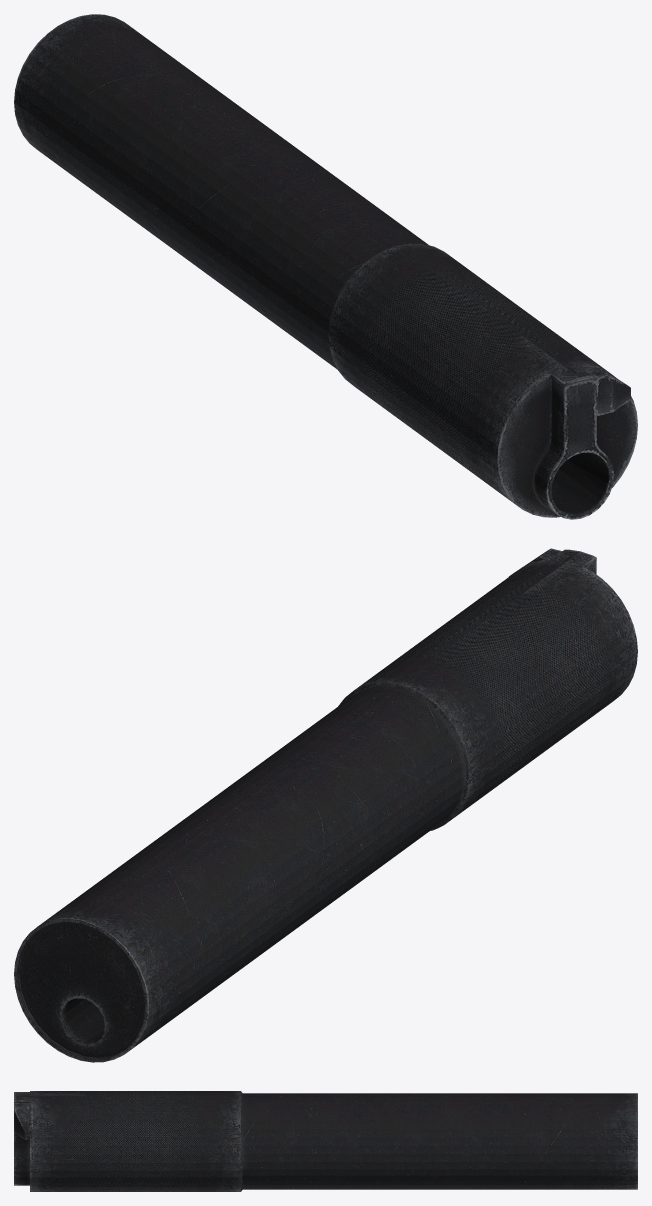
3 views of the same model, one above another, from view 1: azimuth 30°, elevation 25°; view 2: azimuth 150°, elevation 25°; view 3: azimuth 270°, elevation 25° (orthographic). The views are drawn at different scales.
Parts seen in each view (by area): view 1: TW_5abcc328d8ce8700194394f3_PZ_Import; view 2: TW_5abcc328d8ce8700194394f3_PZ_Import; view 3: TW_5abcc328d8ce8700194394f3_PZ_Import.
Part boxes in pixels (x1=…): TW_5abcc328d8ce8700194394f3_PZ_Import: x1=14, y1=14, x2=637, y2=519; TW_5abcc328d8ce8700194394f3_PZ_Import: x1=14, y1=548, x2=637, y2=1062; TW_5abcc328d8ce8700194394f3_PZ_Import: x1=14, y1=1091, x2=637, y2=1191.
Size of the model in its own units: 0.0218 by 0.134 by 0.0218.
1 material, 1 textured.
